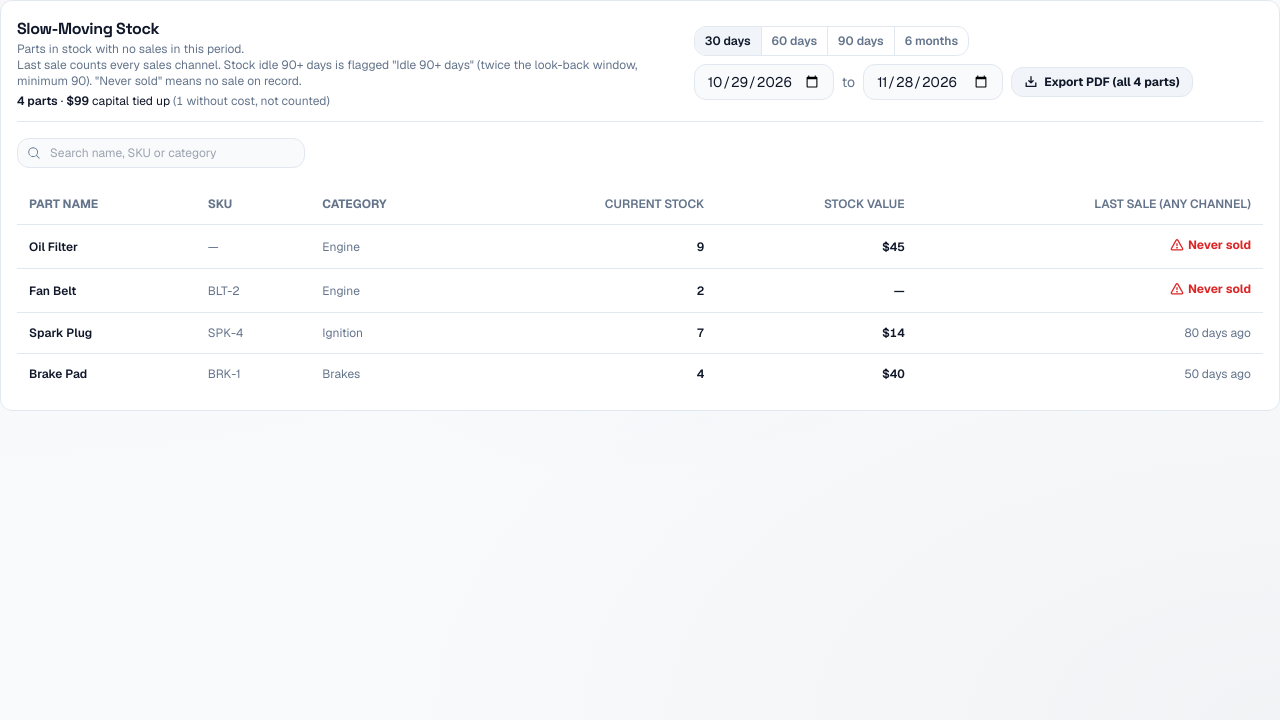
Slow-moving stock: window presets › a wider window removes parts sold inside it from the list
Click the button "6 months".
click(931, 41)  # box [895,27,968,55]
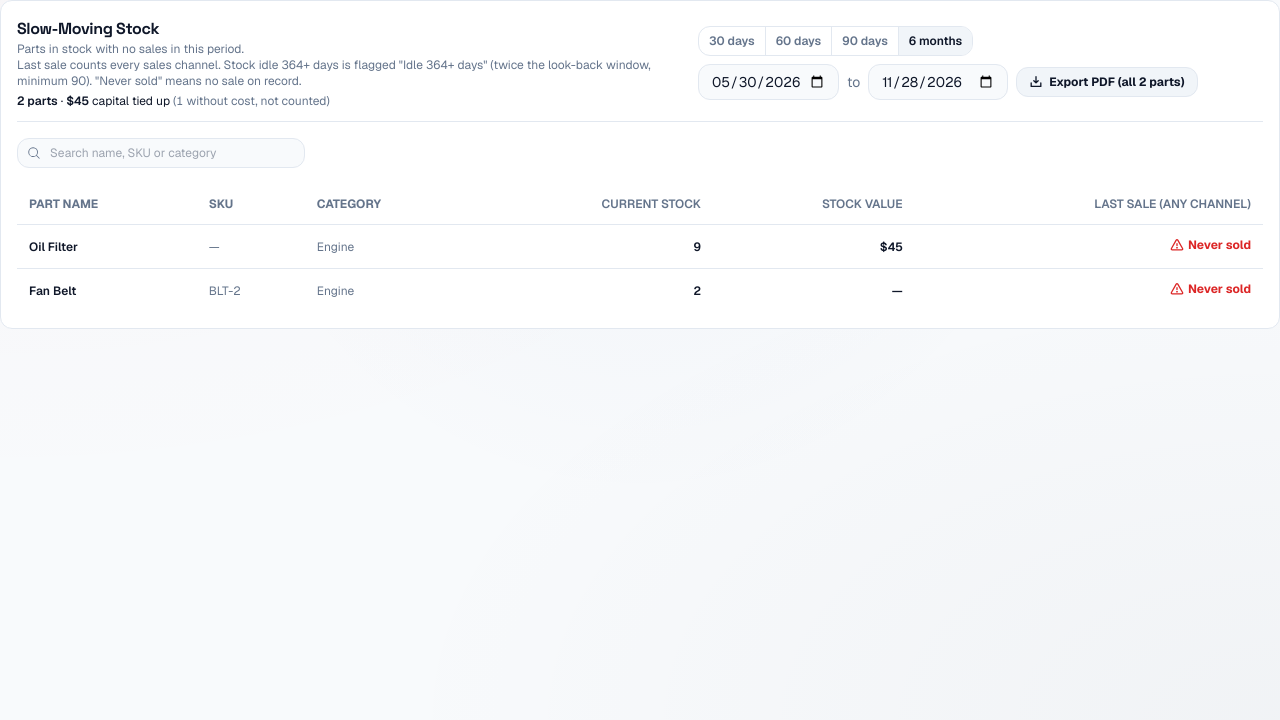
// 60 days window: Brake Pad (50d) now counts as sold
Click the button "60 days".
click(799, 41)  # box [766,27,832,55]
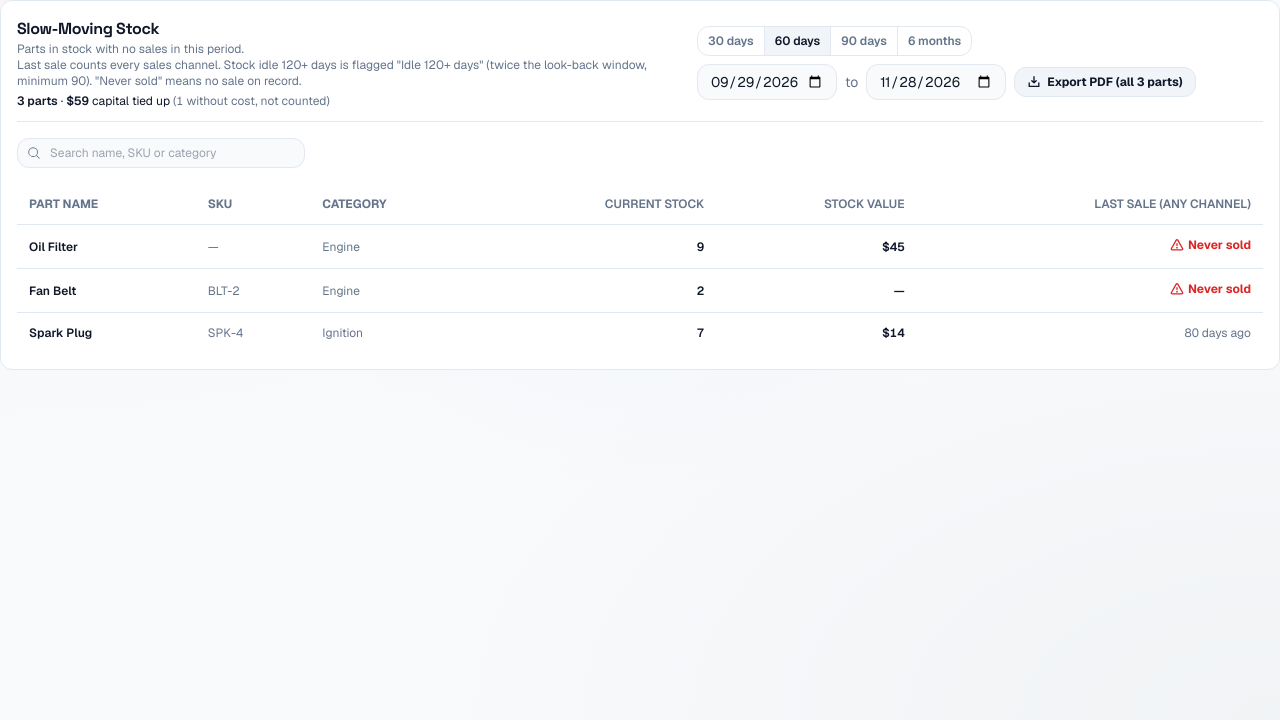
Now the cell does not show "Brake Pad"
Now the cell "Spark Plug" is shown, box [17,312,196,353]
